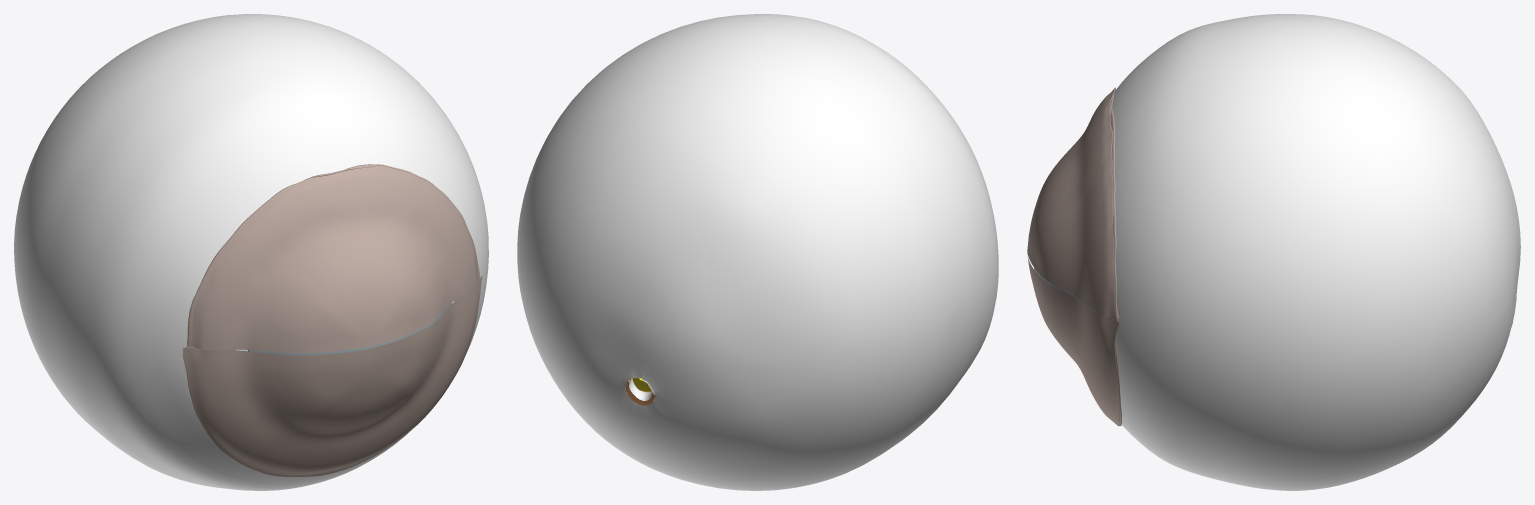
File: eye-left-male.glb
3 renders of one model, left to right at view 1: azimuth 30°, elevation 25°; view 2: azimuth 150°, elevation 25°; view 3: azimuth 270°, elevation 25°, orthographic.
Visible parts, largest first — view 1: VH_M_sclera_L, VH_M_palpebral_conjunctiva_of_upper_eyelid_L, VH_M_palpebral_conjunctiva_of_lower_eyelid_L, VH_M_bulbar_conjunctiva_L; view 2: VH_M_sclera_L; view 3: VH_M_sclera_L, VH_M_palpebral_conjunctiva_of_upper_eyelid_L, VH_M_palpebral_conjunctiva_of_lower_eyelid_L, VH_M_bulbar_conjunctiva_L.
Part boxes in pixels (bbox=[...]): VH_M_sclera_L: bbox=[14, 14, 488, 490]; VH_M_palpebral_conjunctiva_of_upper_eyelid_L: bbox=[186, 165, 479, 353]; VH_M_palpebral_conjunctiva_of_lower_eyelid_L: bbox=[182, 275, 482, 476]; VH_M_bulbar_conjunctiva_L: bbox=[185, 164, 479, 350]; VH_M_sclera_L: bbox=[517, 14, 998, 490]; VH_M_sclera_L: bbox=[1112, 14, 1520, 490]; VH_M_palpebral_conjunctiva_of_upper_eyelid_L: bbox=[1027, 90, 1118, 320]; VH_M_palpebral_conjunctiva_of_lower_eyelid_L: bbox=[1027, 257, 1120, 426]; VH_M_bulbar_conjunctiva_L: bbox=[1086, 87, 1122, 426].
Bounding box in the file's own units: 0.0245 × 0.0245 × 0.0254.
